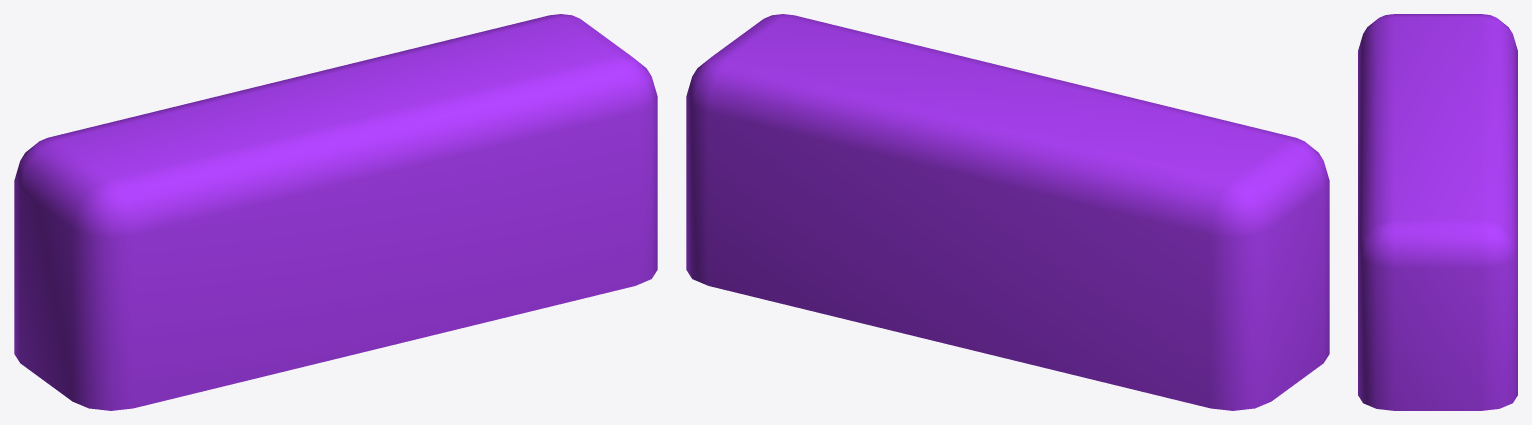
The model's file is DecorMachine_Buttons_ZoomOut.FBX.
3 renders of one model, left to right at view 1: azimuth 30°, elevation 25°; view 2: azimuth 150°, elevation 25°; view 3: azimuth 270°, elevation 25°, orthographic. The views are drawn at different scales.
Parts seen in each view (by area): view 1: DecorMachine_Buttons_ZoomOut; view 2: DecorMachine_Buttons_ZoomOut; view 3: DecorMachine_Buttons_ZoomOut.
Part boxes in pixels (x1=…): DecorMachine_Buttons_ZoomOut: x1=14, y1=14, x2=657, y2=410; DecorMachine_Buttons_ZoomOut: x1=686, y1=14, x2=1329, y2=410; DecorMachine_Buttons_ZoomOut: x1=1358, y1=14, x2=1517, y2=410.
Bounding box in the file's own units: 1900 × 669 × 550.
